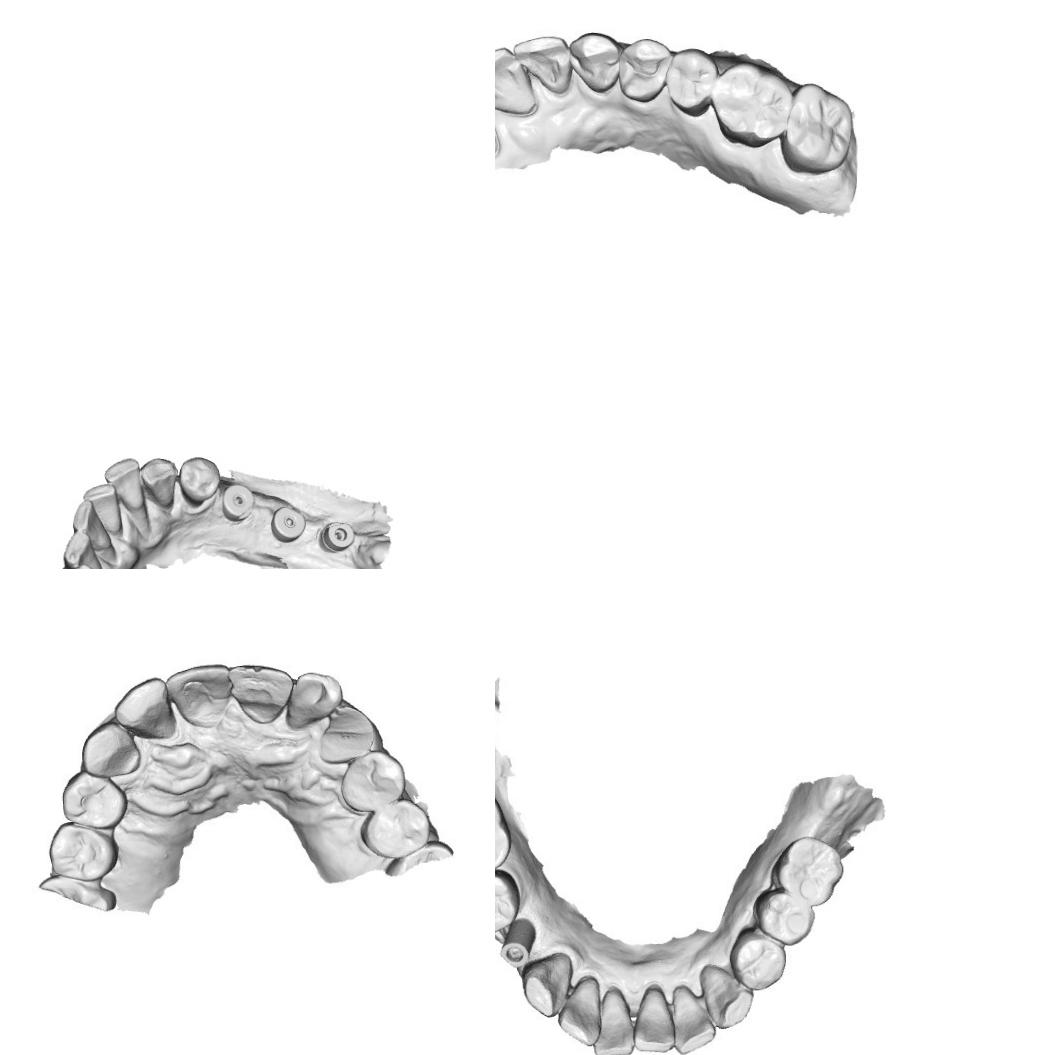canine: (699, 966, 754, 1036), (518, 949, 574, 1017), (317, 700, 378, 760), (568, 30, 625, 93), (81, 726, 145, 782), (138, 456, 180, 510)
implant: (497, 920, 540, 971), (269, 503, 308, 544), (219, 482, 256, 522), (318, 520, 356, 553)
incisor: (508, 34, 572, 101), (116, 679, 182, 740), (230, 660, 289, 728), (668, 978, 719, 1054), (169, 662, 231, 722), (495, 43, 536, 124), (558, 978, 604, 1050), (286, 673, 336, 733), (591, 987, 634, 1055), (634, 984, 673, 1055), (69, 498, 114, 554), (102, 457, 146, 513), (82, 483, 122, 536), (60, 529, 104, 569)
molar: (710, 60, 795, 147), (778, 81, 856, 174), (778, 838, 846, 902)
premolar: (46, 818, 122, 883), (60, 772, 132, 833), (338, 748, 406, 812), (364, 802, 436, 862), (616, 36, 674, 103), (662, 46, 715, 118), (732, 930, 787, 994), (760, 893, 820, 947), (178, 454, 222, 508), (495, 866, 520, 932)
